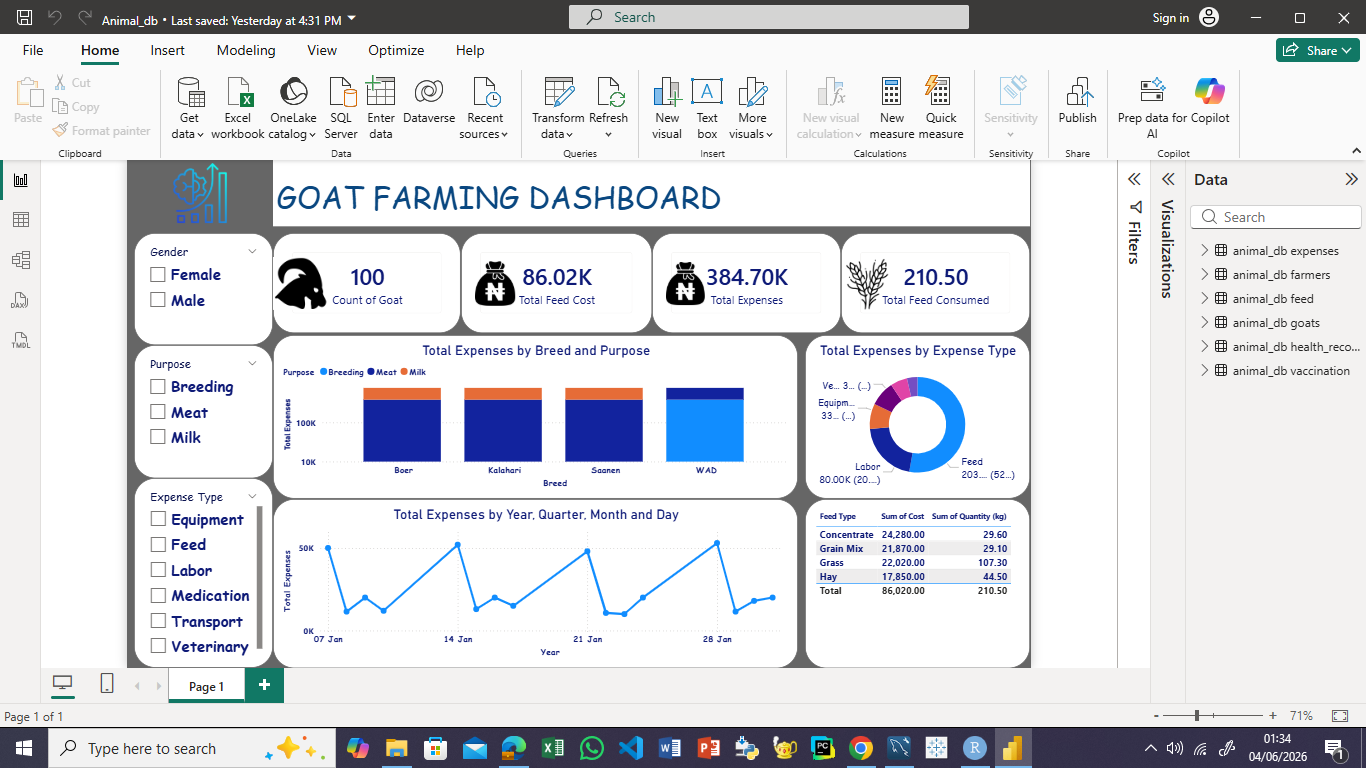

This screenshot's page, from the dashboard's own definition file:
{"tool":"powerbi","page":{"name":"Page 1","canvas":[1280,720],"ordinal":0},"visuals":[{"type":"textbox","box":[206.9,0,1072.9,93.5],"z":0},{"type":"lineChart","fields":{"Y":["Sum(animal_db expenses.Amount)"],"Category":["animal_db expenses.Expense Date.Variation.Date Hierarchy.Year","animal_db expenses.Expense Date.Variation.Date Hierarchy.Quarter","animal_db expenses.Expense Date.Variation.Date Hierarchy.Month","animal_db expenses.Expense Date.Variation.Date Hierarchy.Day"]},"box":[206.9,480.5,744.1,239.5],"z":1000},{"type":"donutChart","title":"Total Expenses by Expense Type","fields":{"Y":["Sum(animal_db expenses.Amount)"],"Category":["animal_db expenses.Expense Type"]},"box":[960.9,248,318.9,232.4],"z":2000},{"type":"tableEx","fields":{"Values":["animal_db feed.Feed Type","Sum(animal_db feed.Cost)","Sum(animal_db feed.Quantity (kg))"]},"box":[960.9,480.5,318.9,239.5],"z":3000},{"type":"lineStackedColumnComboChart","title":"Total Expenses by Breed and Purpose","fields":{"Category":["animal_db goats.Breed"],"Y":["Sum(animal_db expenses.Amount)"],"Series":["animal_db goats.Purpose"]},"box":[206.9,248,744.1,232.4],"z":4000},{"type":"cardVisual","fields":{"Data":["Sum(animal_db expenses.Amount)"]},"box":[744.1,103.5,267.9,141.7],"z":6000},{"type":"cardVisual","fields":{"Data":["Sum(animal_db feed.Cost)"]},"box":[473.4,103.5,270.7,141.7],"z":7000},{"type":"cardVisual","fields":{"Data":["CountNonNull(animal_db goats.Goat Id)"]},"box":[206.9,103.5,266.5,141.7],"z":8000},{"type":"cardVisual","fields":{"Data":["Sum(animal_db feed.Quantity (kg))"]},"box":[1012,103.5,267.9,141.7],"z":9000},{"type":"slicer","fields":{"Values":["animal_db goats.Gender"]},"box":[9.9,103.5,197,158.7],"z":10000},{"type":"slicer","fields":{"Values":["animal_db goats.Purpose"]},"box":[9.9,262.2,197,188.5],"z":11000},{"type":"slicer","fields":{"Values":["animal_db expenses.Expense Type"]},"box":[9.9,450.7,197,269.3],"z":12000},{"type":"image","box":[206.9,137.5,79.4,75.1],"z":13000},{"type":"image","box":[763.9,117.6,55.3,114.8],"z":14000},{"type":"image","box":[493.2,117.6,56.7,114.8],"z":15000},{"type":"image","box":[0,0,206.9,93.5],"z":17000},{"type":"image","box":[1012,95,73.7,161.6],"z":17001}]}

Visuals, with their boxes on the page's 1280x720 design canvas (x1, y1, x2, y2). These are canvas units, not pixel positions in the 1366x768 screenshot, which may show the page scaled, cropped or inside an application window:
textbox: BBox(207, 0, 1280, 94)
lineChart - Sum(animal_db expenses.Amount) x animal_db expenses.Expense Date.Variation.Date Hierarchy.Year: BBox(207, 480, 951, 720)
"Total Expenses by Expense Type" donutChart: BBox(961, 248, 1280, 480)
tableEx - animal_db feed.Feed Type x Sum(animal_db feed.Cost): BBox(961, 480, 1280, 720)
"Total Expenses by Breed and Purpose" lineStackedColumnComboChart: BBox(207, 248, 951, 480)
cardVisual - Sum(animal_db expenses.Amount): BBox(744, 104, 1012, 245)
cardVisual - Sum(animal_db feed.Cost): BBox(473, 104, 744, 245)
cardVisual - CountNonNull(animal_db goats.Goat Id): BBox(207, 104, 473, 245)
cardVisual - Sum(animal_db feed.Quantity (kg)): BBox(1012, 104, 1280, 245)
slicer - animal_db goats.Gender: BBox(10, 104, 207, 262)
slicer - animal_db goats.Purpose: BBox(10, 262, 207, 451)
slicer - animal_db expenses.Expense Type: BBox(10, 451, 207, 720)
image: BBox(207, 138, 286, 213)
image: BBox(764, 118, 819, 232)
image: BBox(493, 118, 550, 232)
image: BBox(0, 0, 207, 94)
image: BBox(1012, 95, 1086, 257)
